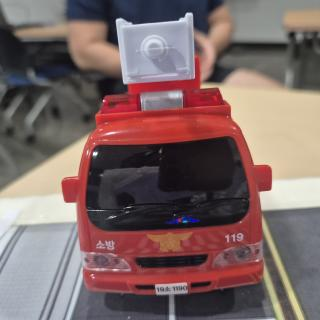Fire_truck: (62, 80, 272, 296)
